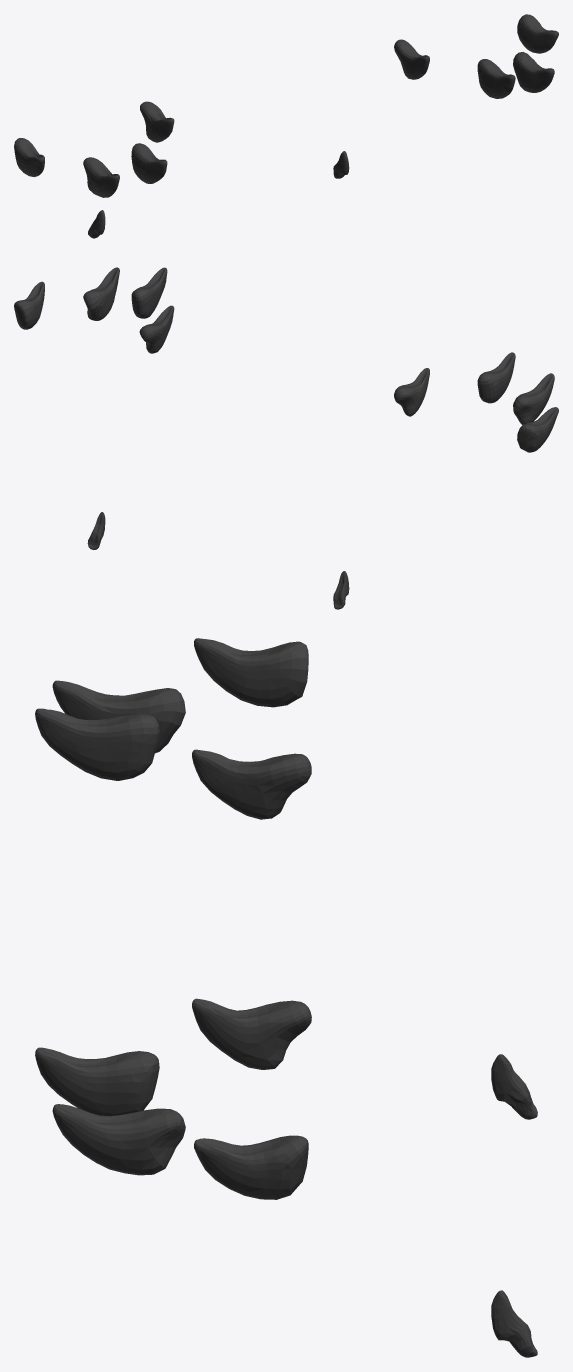
Rendered from FL_nails_1.glb.
3 renders of one model, top to bottom at view 1: azimuth 30°, elevation 25°; view 2: azimuth 150°, elevation 25°; view 3: azimuth 270°, elevation 25°, orthographic. The views are drawn at different scales.
Visible parts, largest first — view 1: FL_nails_1; view 2: FL_nails_1; view 3: FL_nails_1.
Part boxes in pixels (x1=…): FL_nails_1: x1=14, y1=14, x2=558, y2=238; FL_nails_1: x1=14, y1=267, x2=558, y2=609; FL_nails_1: x1=35, y1=638, x2=537, y2=1357.
Size of the model in its own units: 0.00466 by 0.00154 by 0.00194.
1 material, 1 textured.
